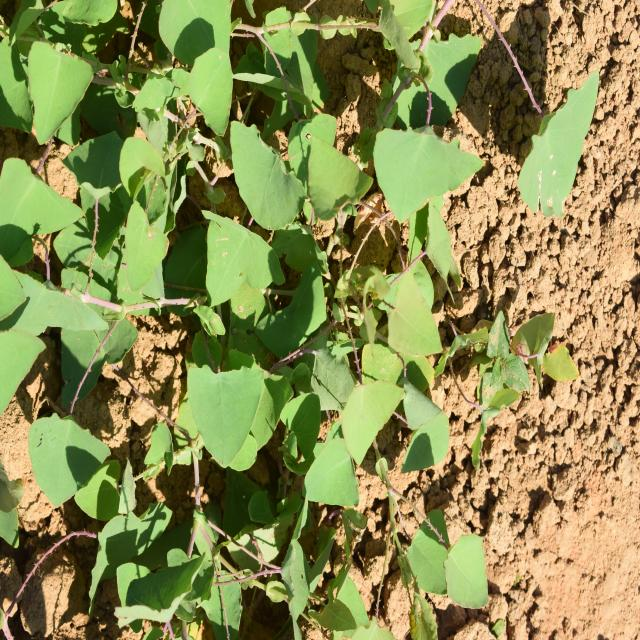Asiatic_Smartweed: (0, 156, 163, 504), (323, 369, 487, 624), (328, 89, 475, 370), (189, 127, 344, 346), (509, 57, 606, 228), (192, 352, 298, 503)
